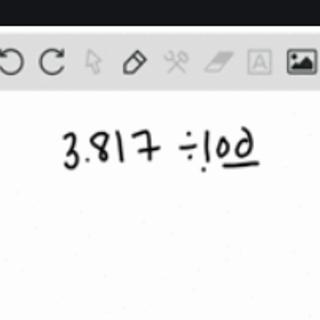.: (81, 153, 94, 168)
1: (112, 124, 128, 164)
3: (59, 127, 81, 172)
7: (128, 125, 163, 163)
8: (88, 130, 112, 162)
